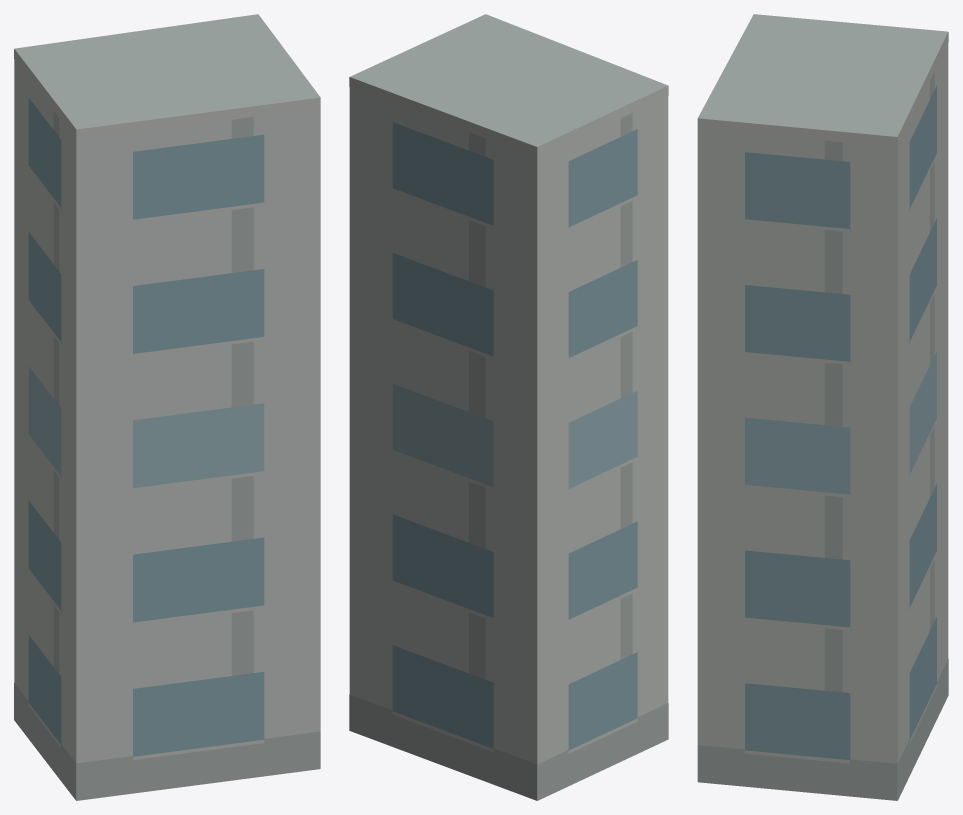
Rendered from survey-upis-32642416.glb.
3 views of the same model, side by side, from view 1: azimuth 30°, elevation 25°; view 2: azimuth 150°, elevation 25°; view 3: azimuth 270°, elevation 25° (orthographic). The views are drawn at different scales.
Visible parts, largest first — view 1: survey-upis-32642416.tmp; view 2: survey-upis-32642416.tmp; view 3: survey-upis-32642416.tmp.
Boxes of the visible parts, <box> form: survey-upis-32642416.tmp: <box>14,14,320,800</box>; survey-upis-32642416.tmp: <box>349,14,668,800</box>; survey-upis-32642416.tmp: <box>697,14,948,800</box>.
Size of the model in its own units: 6.07 by 15.25 by 5.23.
